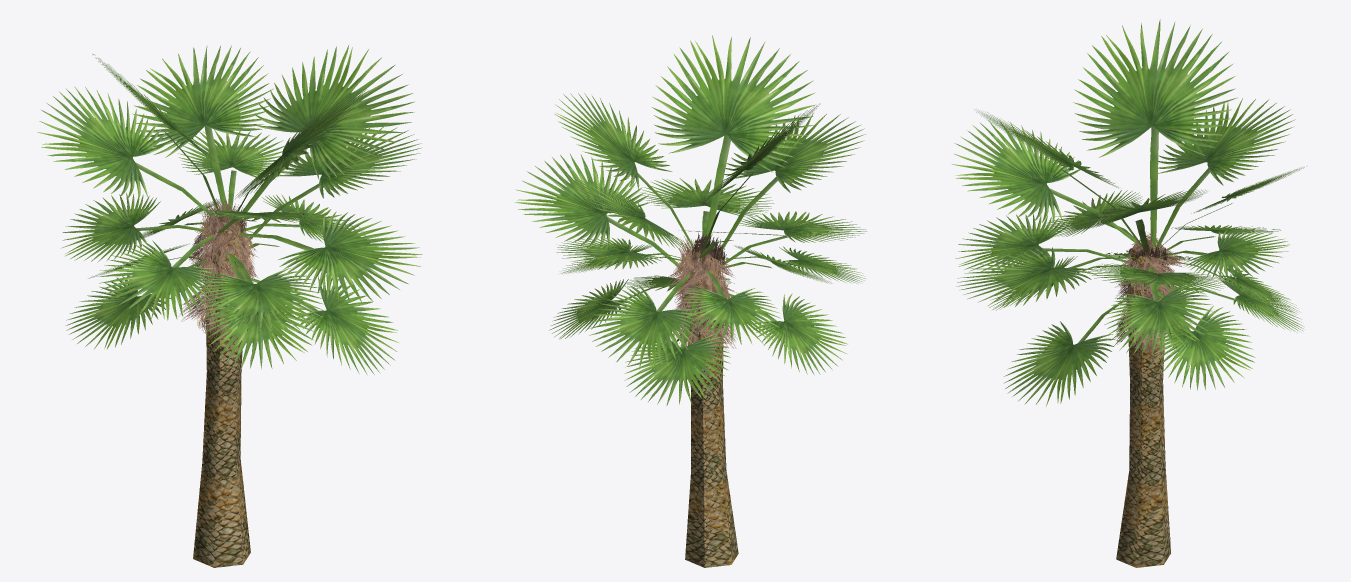
Rendered from pac_LOD1.fbx.
3 views of the same model, side by side, from view 1: azimuth 30°, elevation 25°; view 2: azimuth 150°, elevation 25°; view 3: azimuth 270°, elevation 25° (orthographic). The views are drawn at different scales.
Visible parts, largest first — view 1: Mesh Object; view 2: Mesh Object; view 3: Mesh Object.
Part boxes in pixels (left/top/right/bottom): Mesh Object: left=37, top=45, right=422, bottom=567; Mesh Object: left=515, top=35, right=866, bottom=567; Mesh Object: left=952, top=19, right=1306, bottom=567.
Size of the model in its own units: 14.11 by 18.99 by 14.37.
